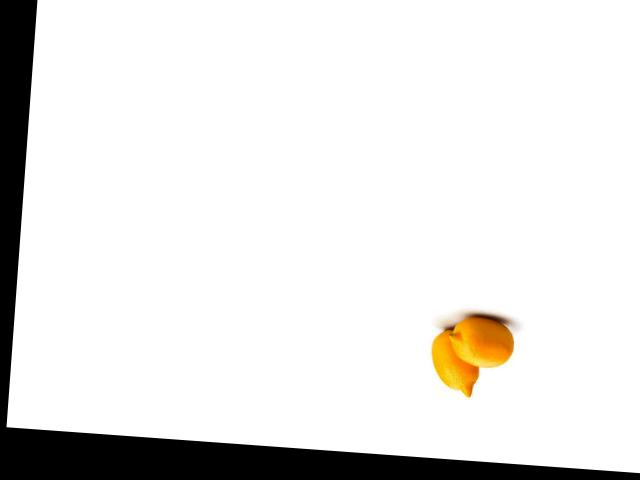lemon: (446, 307, 519, 375)
